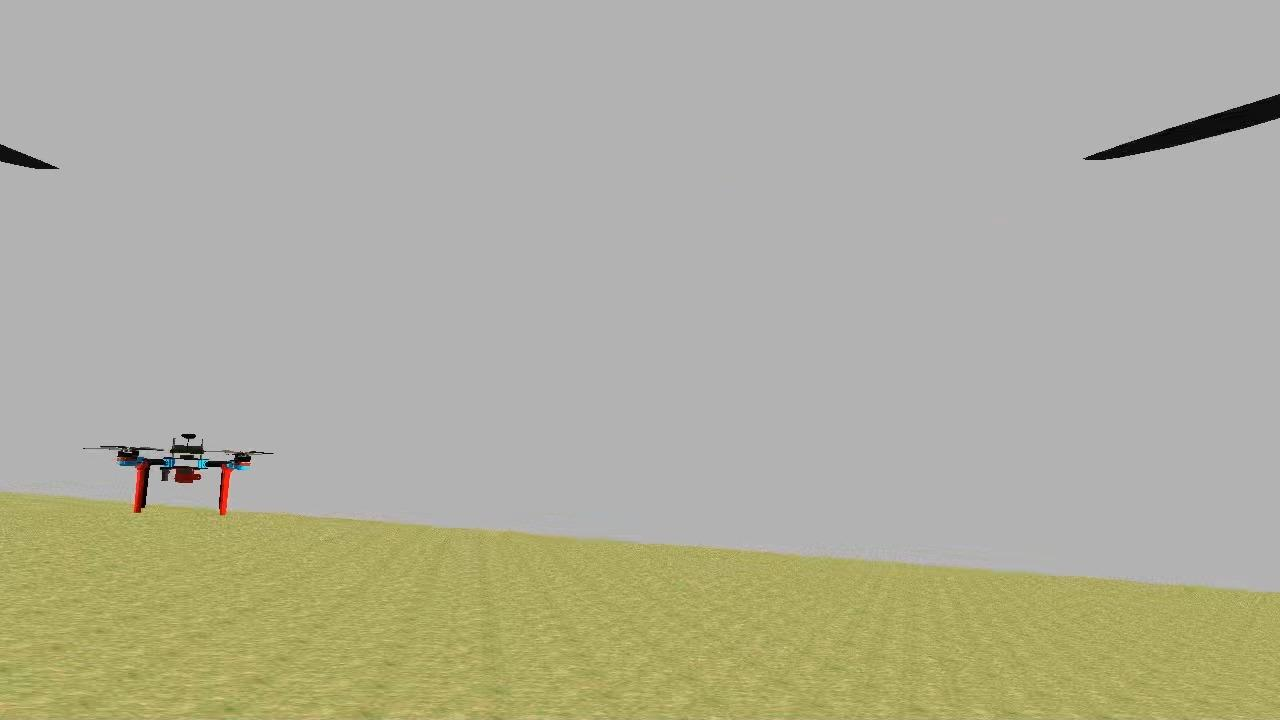UAV: (103, 427, 266, 523)
